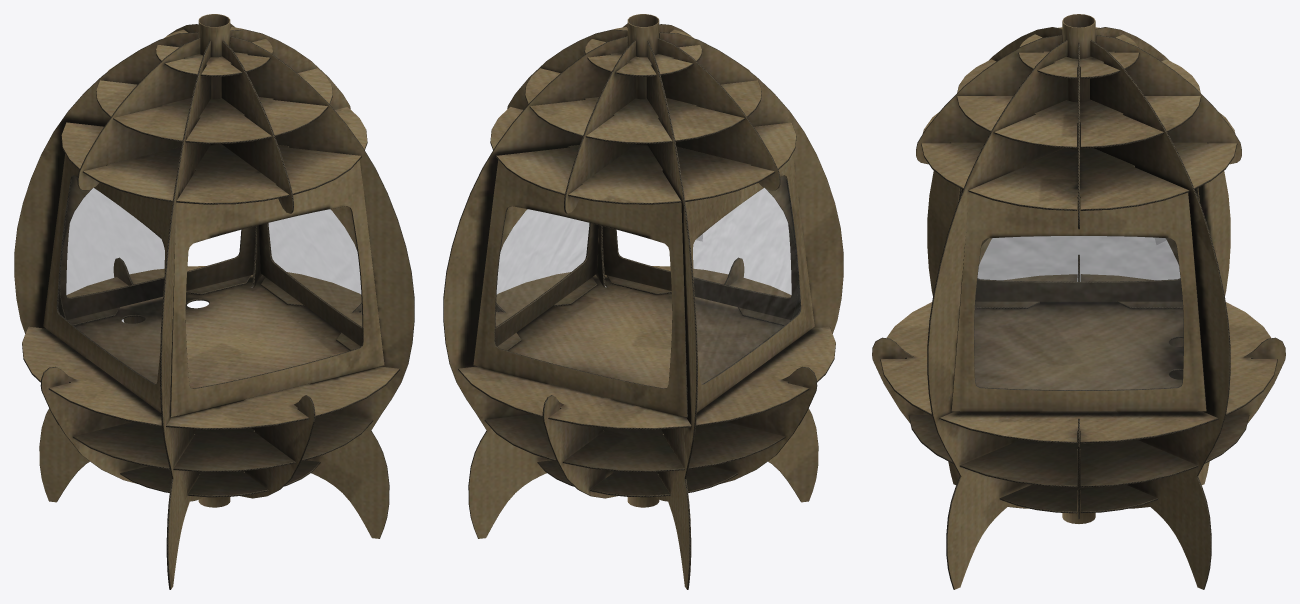
File: thepod.obj
3 views of the same model, side by side, from view 1: azimuth 30°, elevation 25°; view 2: azimuth 150°, elevation 25°; view 3: azimuth 270°, elevation 25° (orthographic). The views are drawn at different scales.
Visible parts, largest first — view 1: Pod_Mesh.002_Mesh.019; view 2: Pod_Mesh.002_Mesh.019; view 3: Pod_Mesh.002_Mesh.019.
Boxes of the visible parts, left/top/right/bottom form: Pod_Mesh.002_Mesh.019: left=14, top=14, right=414, bottom=589; Pod_Mesh.002_Mesh.019: left=443, top=14, right=843, bottom=589; Pod_Mesh.002_Mesh.019: left=872, top=14, right=1285, bottom=589.
Bounding box in the file's own units: 130 × 178 × 130.
Materials: 3 (3 with a texture image).
